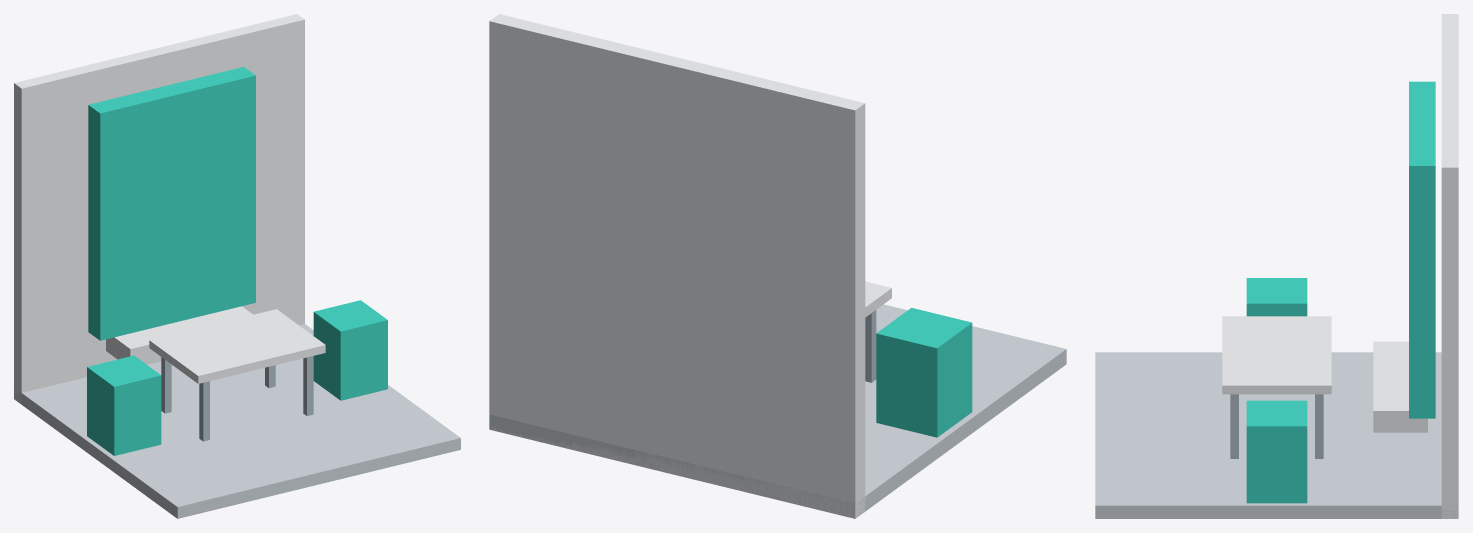
The picture shows the model from 3 angles, left to right: view 1: azimuth 30°, elevation 25°; view 2: azimuth 150°, elevation 25°; view 3: azimuth 270°, elevation 25°; orthographic projection. The views are drawn at different scales.
Visible parts, largest first — view 1: Exhibition Booth Concept; view 2: Exhibition Booth Concept; view 3: Exhibition Booth Concept.
Part boxes in pixels (<box>): Exhibition Booth Concept: <box>14,14,460,518</box>; Exhibition Booth Concept: <box>489,14,1066,518</box>; Exhibition Booth Concept: <box>1095,14,1458,518</box>.
Bounding box in the file's own units: 3 × 3.2 × 3.
